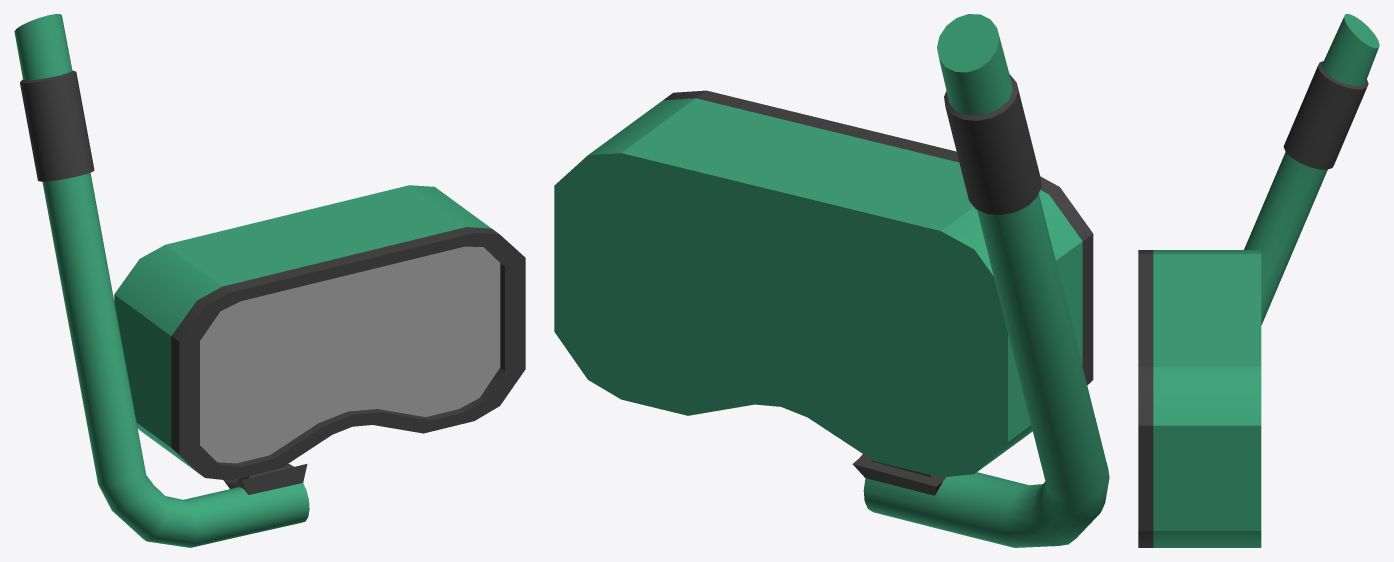
File: goggles.fbx
The picture shows the model from 3 angles, left to right: view 1: azimuth 30°, elevation 25°; view 2: azimuth 150°, elevation 25°; view 3: azimuth 270°, elevation 25°; orthographic projection. The views are drawn at different scales.
Parts seen in each view (by area): view 1: Goggles; view 2: Goggles; view 3: Goggles.
Boxes of the visible parts, x1,y1,x2,y2 form: Goggles: (14,14,525,547); Goggles: (554,14,1109,547); Goggles: (1138,14,1379,547).
Size of the model in its own units: 33.1 by 18.61 by 38.69.
